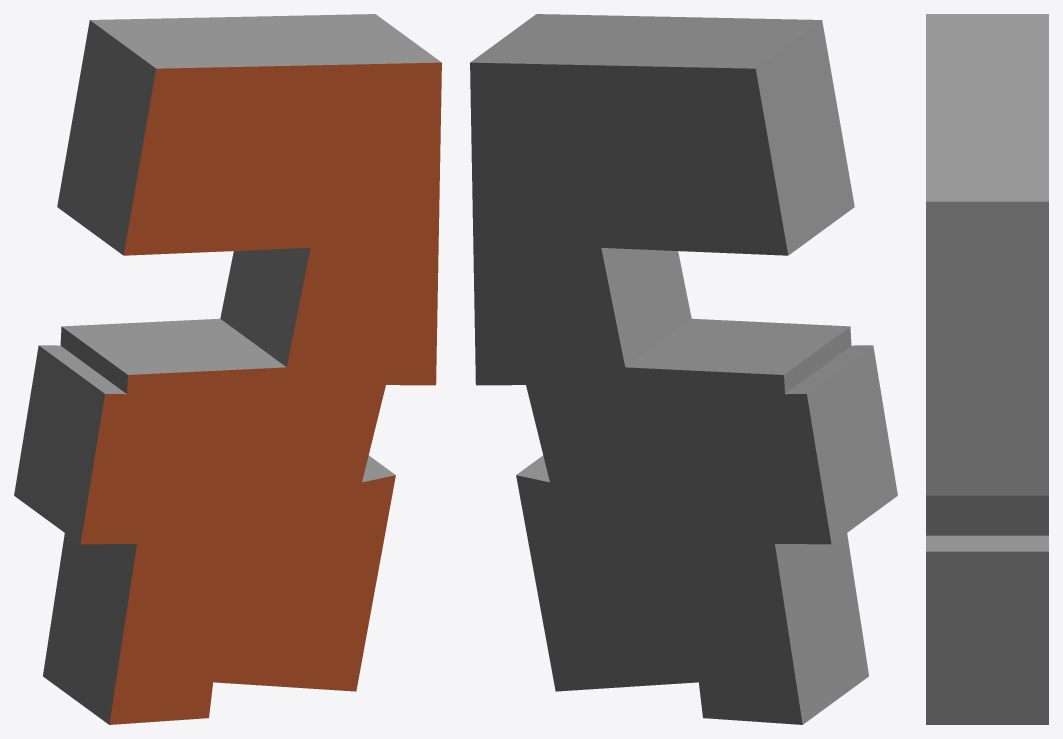
The model's file is construction_3842_assumed_A_Casa_h6m.obj.
3 renders of one model, left to right at view 1: azimuth 30°, elevation 25°; view 2: azimuth 150°, elevation 25°; view 3: azimuth 270°, elevation 25°, orthographic. The views are drawn at different scales.
Parts seen in each view (by area): view 1: construction_3842_assumed_A_Casa; view 2: construction_3842_assumed_A_Casa; view 3: construction_3842_assumed_A_Casa.
Part boxes in pixels (box(x1,y1,x2,y2)): construction_3842_assumed_A_Casa: box(14, 14, 441, 724); construction_3842_assumed_A_Casa: box(470, 14, 897, 724); construction_3842_assumed_A_Casa: box(926, 14, 1048, 724).
Size of the model in its own units: 18.84 by 33.46 by 6.
